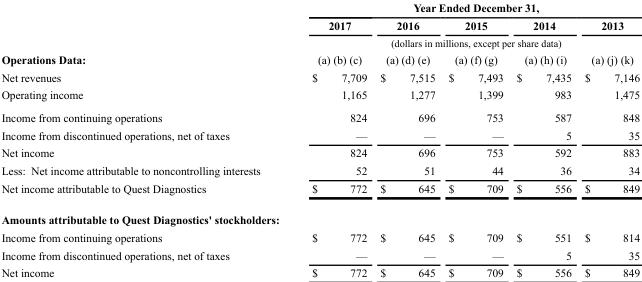table: (0, 1, 639, 278)
table column: (0, 1, 285, 278), (285, 1, 372, 278), (372, 1, 441, 278), (441, 1, 509, 278), (509, 1, 577, 278), (577, 1, 639, 278)
table column header: (0, 1, 639, 50)
table projected row header: (0, 203, 639, 228)
table row: (0, 203, 639, 228), (0, 179, 639, 203), (0, 105, 639, 126), (0, 85, 639, 105), (0, 67, 639, 85), (0, 143, 639, 161), (0, 161, 639, 179), (0, 245, 639, 263), (0, 16, 639, 33), (0, 33, 639, 50), (0, 50, 639, 67), (0, 126, 639, 143), (0, 228, 639, 245), (0, 1, 639, 16), (0, 263, 639, 278)
table spanning cell: (285, 33, 639, 50), (285, 1, 639, 16)
